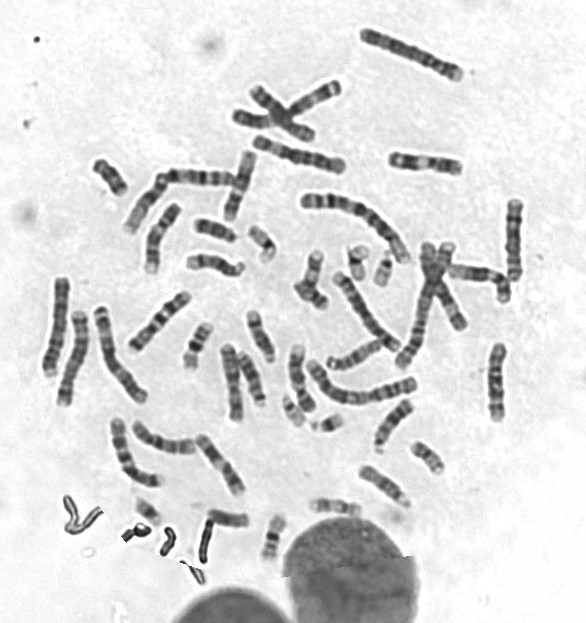chromosomes: (295, 186, 418, 272), (117, 162, 240, 243), (392, 240, 462, 379), (354, 23, 481, 89), (227, 73, 346, 133), (327, 270, 406, 357), (91, 300, 153, 407), (305, 357, 430, 406), (417, 236, 474, 343), (248, 80, 322, 153), (250, 131, 359, 179), (121, 285, 194, 354), (105, 411, 164, 494), (44, 309, 89, 415), (37, 268, 72, 387), (197, 429, 256, 498), (445, 260, 517, 309), (143, 202, 185, 282), (358, 462, 415, 519), (224, 148, 264, 229), (371, 398, 417, 463), (483, 336, 514, 426), (385, 145, 473, 176), (128, 421, 201, 458), (219, 338, 250, 425), (182, 252, 253, 288), (86, 152, 131, 208), (504, 195, 529, 293), (286, 342, 318, 417), (180, 316, 217, 380), (193, 217, 252, 252), (325, 340, 385, 374), (304, 496, 377, 523), (248, 311, 281, 367), (410, 440, 447, 486), (295, 279, 332, 324), (258, 512, 288, 567), (242, 348, 266, 414), (248, 224, 282, 269), (294, 242, 331, 282), (274, 394, 309, 435), (133, 495, 168, 535), (343, 242, 370, 293), (203, 506, 251, 532), (306, 409, 346, 439), (374, 248, 396, 296)
